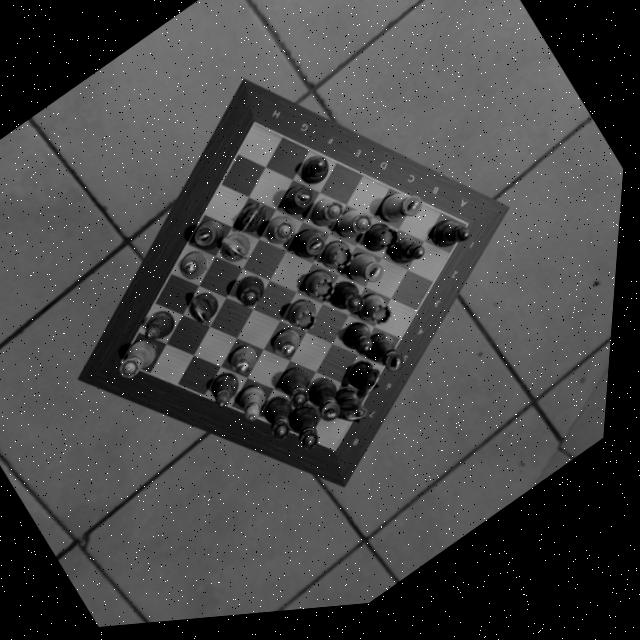chessboard: (130, 124, 473, 457)
